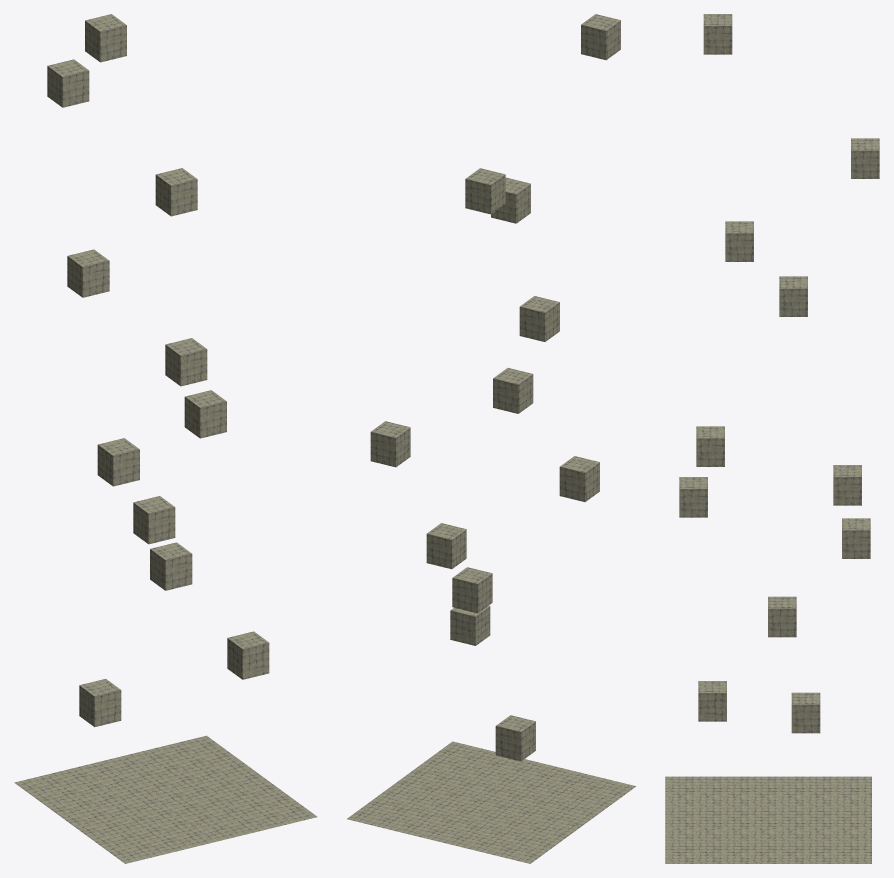
File: SM_LDFest_16_Blockout00.fbx
3 renders of one model, left to right at view 1: azimuth 30°, elevation 25°; view 2: azimuth 150°, elevation 25°; view 3: azimuth 270°, elevation 25°, orthographic. The views are drawn at different scales.
Visible parts, largest first — view 1: SM_LDFest_16_Blockout00; view 2: SM_LDFest_16_Blockout00; view 3: SM_LDFest_16_Blockout00.
Boxes of the visible parts, x1,y1,x2,y2 form: SM_LDFest_16_Blockout00: [14, 14, 317, 863]; SM_LDFest_16_Blockout00: [347, 14, 635, 863]; SM_LDFest_16_Blockout00: [665, 14, 879, 863].
Bounding box in the file's own units: 6952 × 27607 × 7046.
